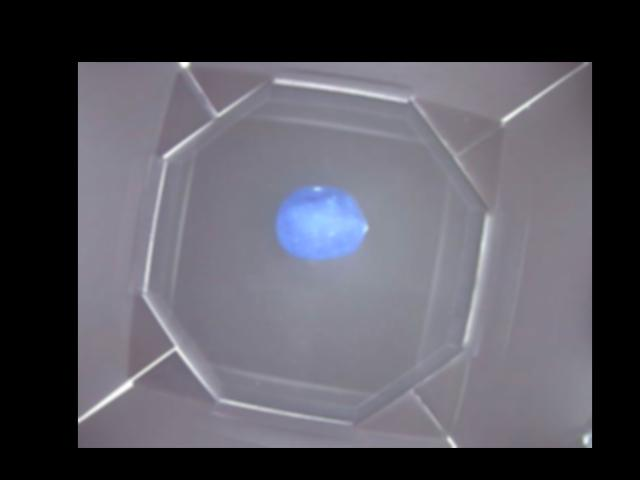Potato: (274, 185, 367, 258)
